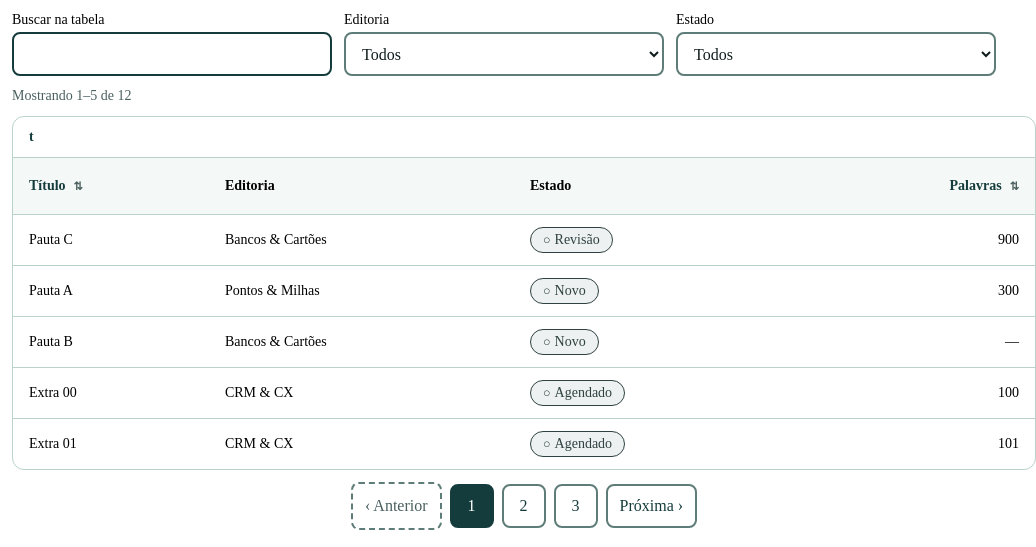
Test: DataTable › pagina e volta à página 1 ao filtrar
Click the button with aria-label "Próxima página" at [651, 506], box [606,484,697,528]
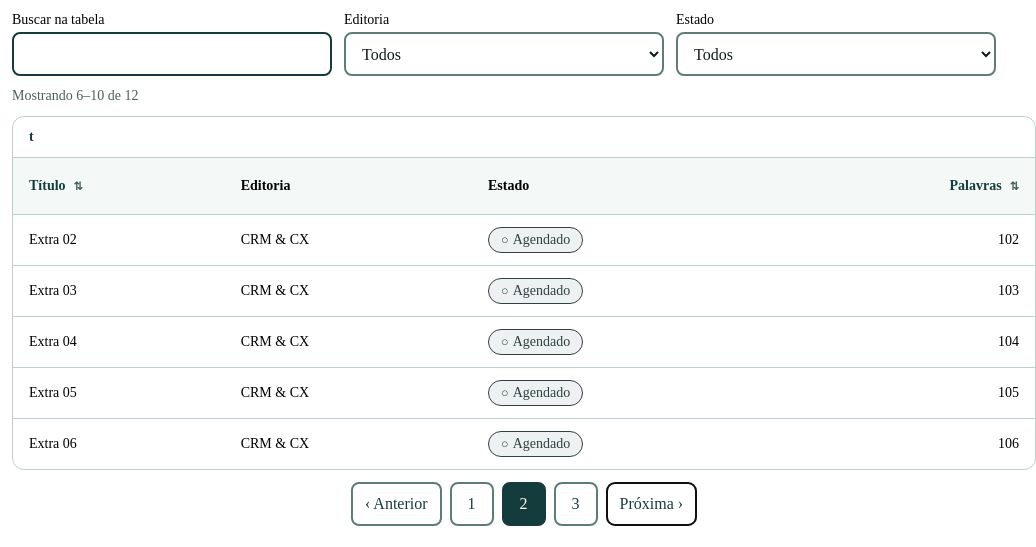
Result: the text "Mostrando 6–10 de 12" is shown at [12,88,138,103]
Type "extra" into the search field labelled "Buscar na tabela" at [172, 54], box [12,32,332,76]
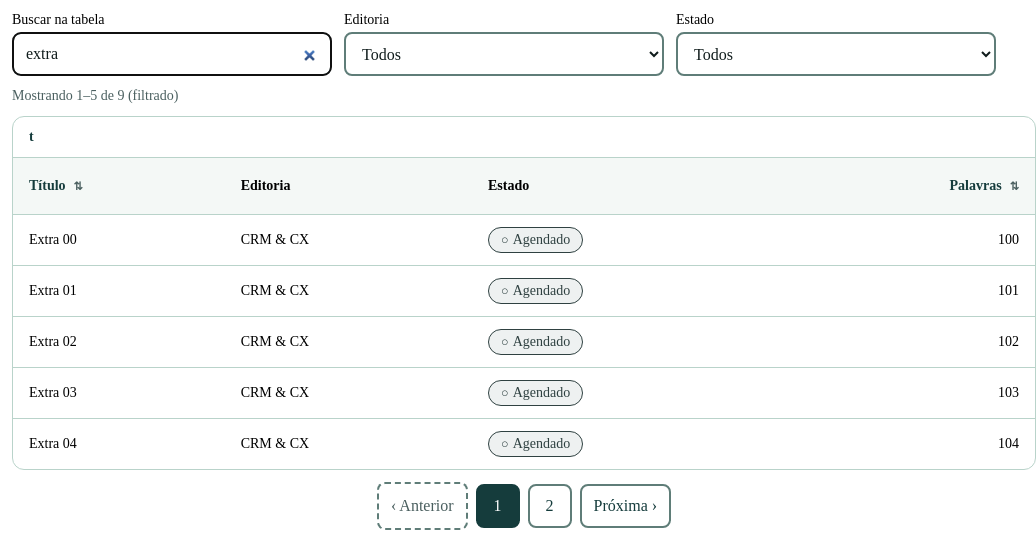
Result: the text "Mostrando 1–5 de 9 (filtrado)" is shown at [12,88,178,103]
